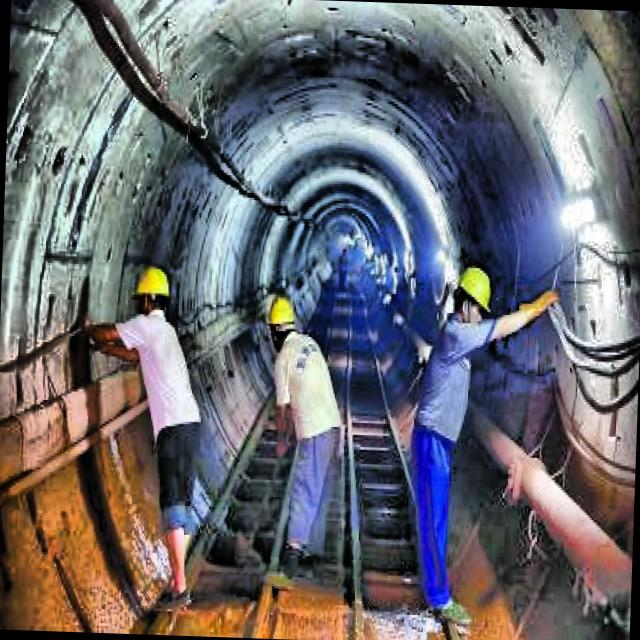helmet: (452, 262, 493, 334), (132, 258, 172, 317), (264, 292, 296, 352)
